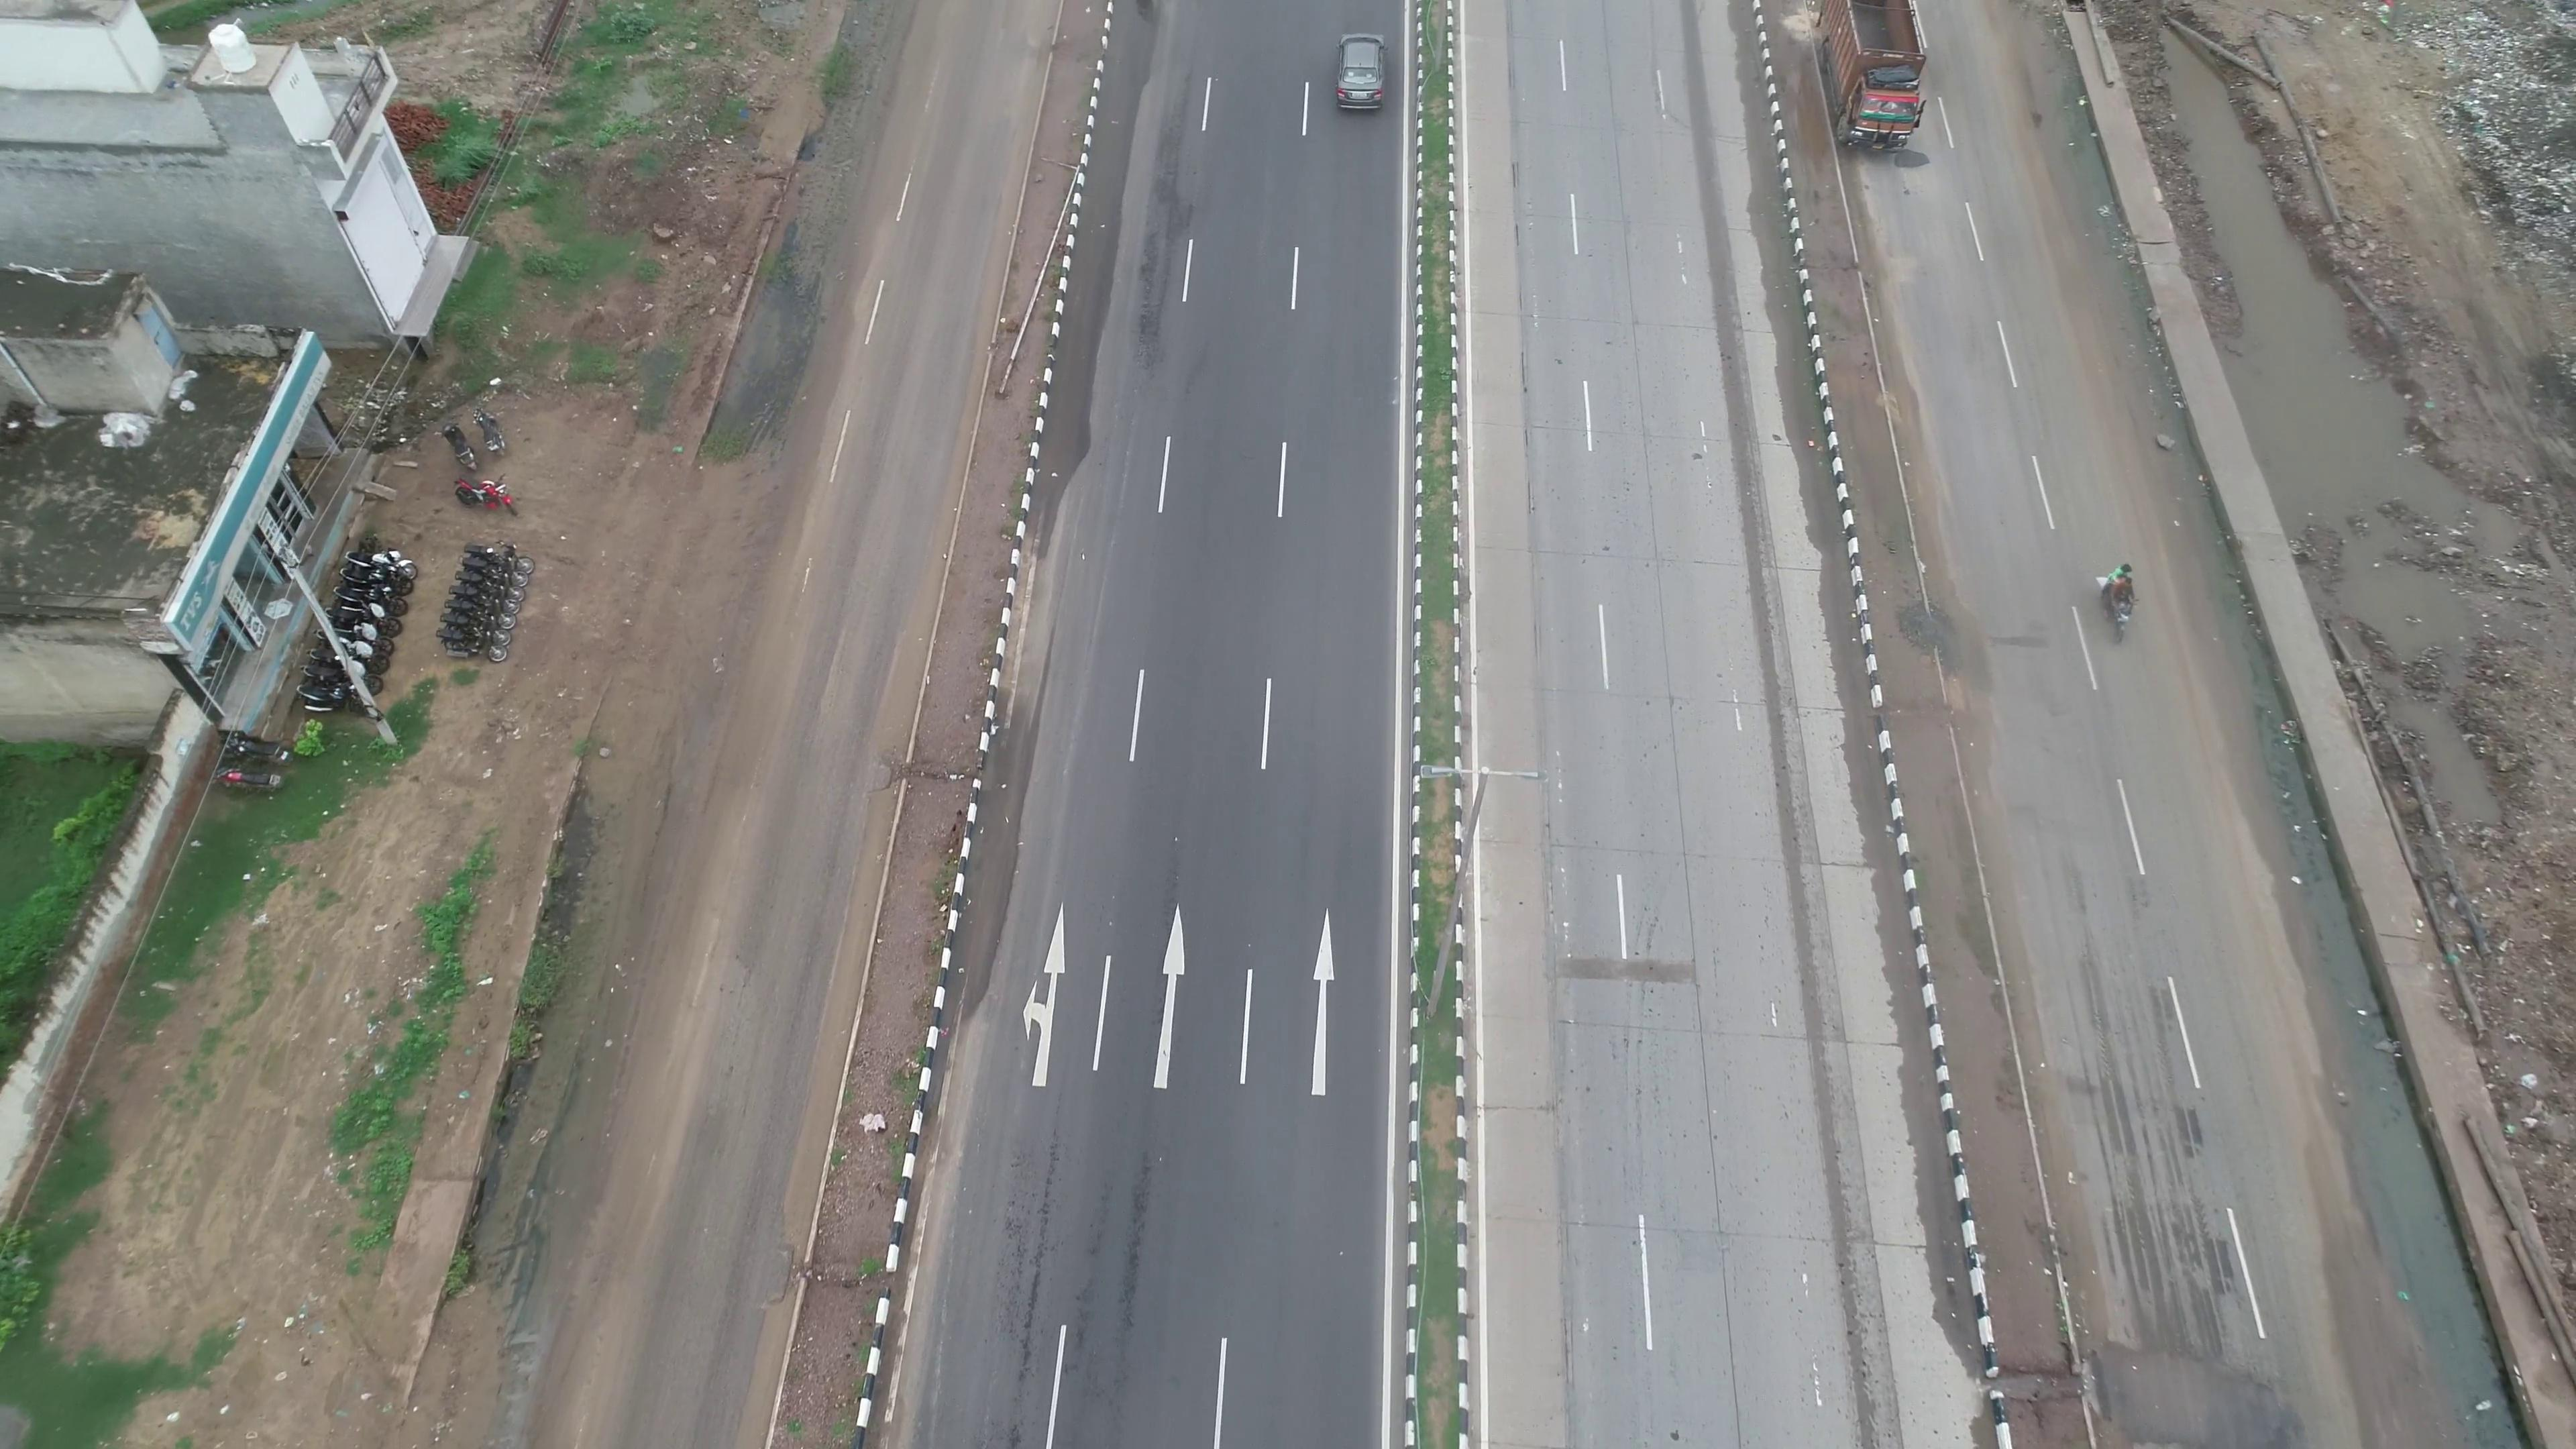Ravelling: (989, 1122, 1070, 1421), (1120, 92, 1207, 345), (1095, 1132, 1185, 1323)
